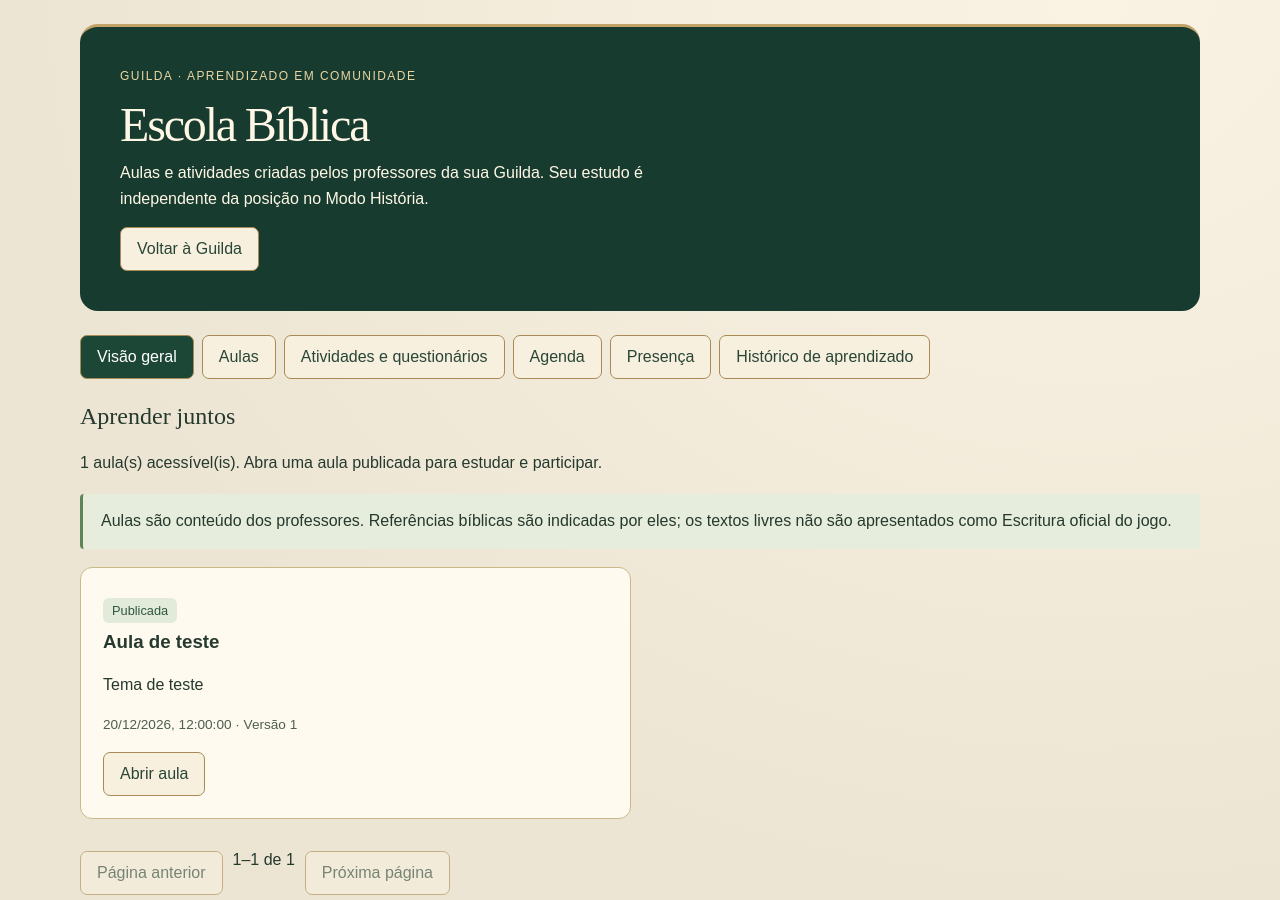
Test: student gets published views, private history and no administration controls
Expected: the heading "Aprender juntos" is shown, [80, 403, 235, 429]
Click the button "Presença" at (661, 357), box [610, 335, 711, 379]
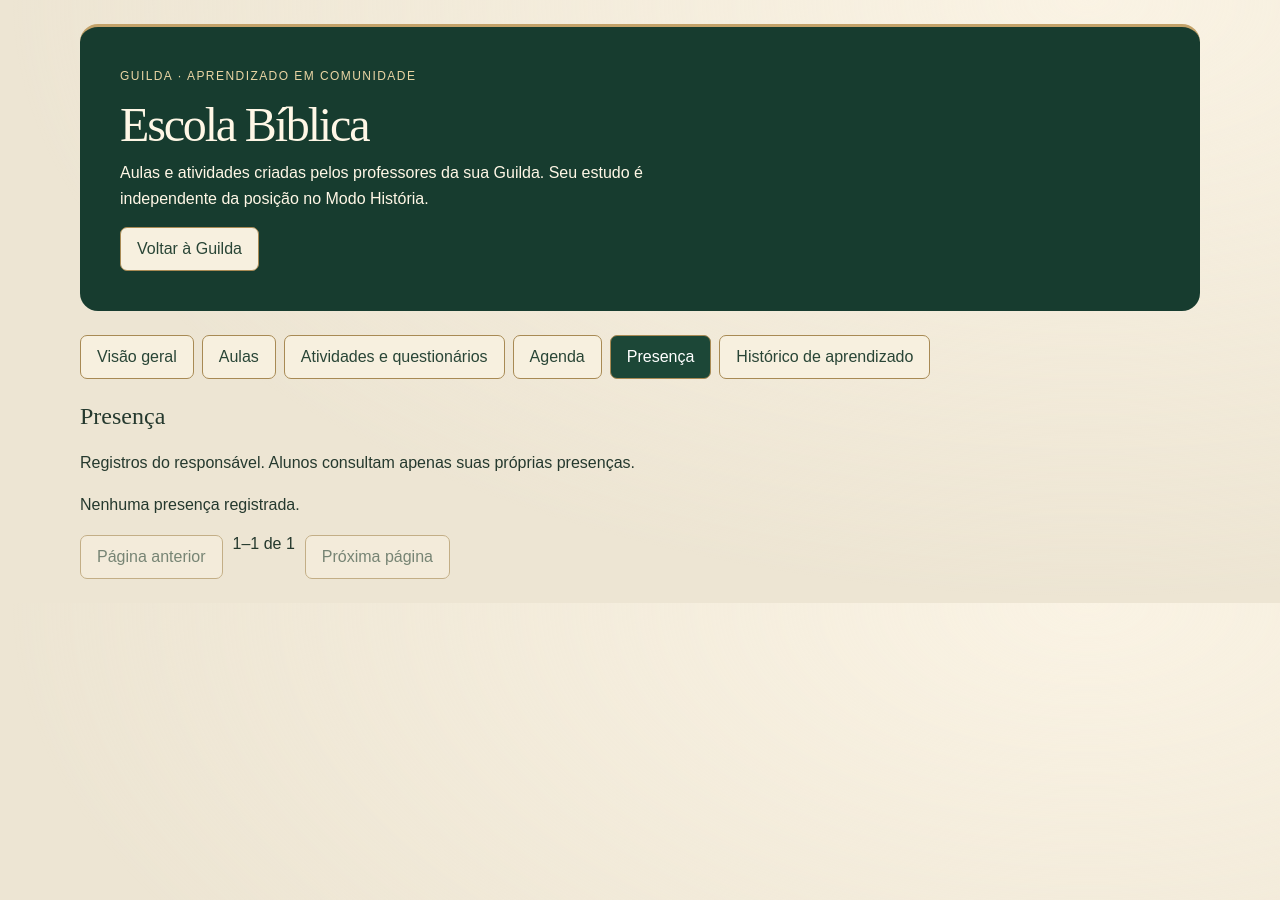
Click the button "Aulas" at (239, 357), box [202, 335, 276, 379]
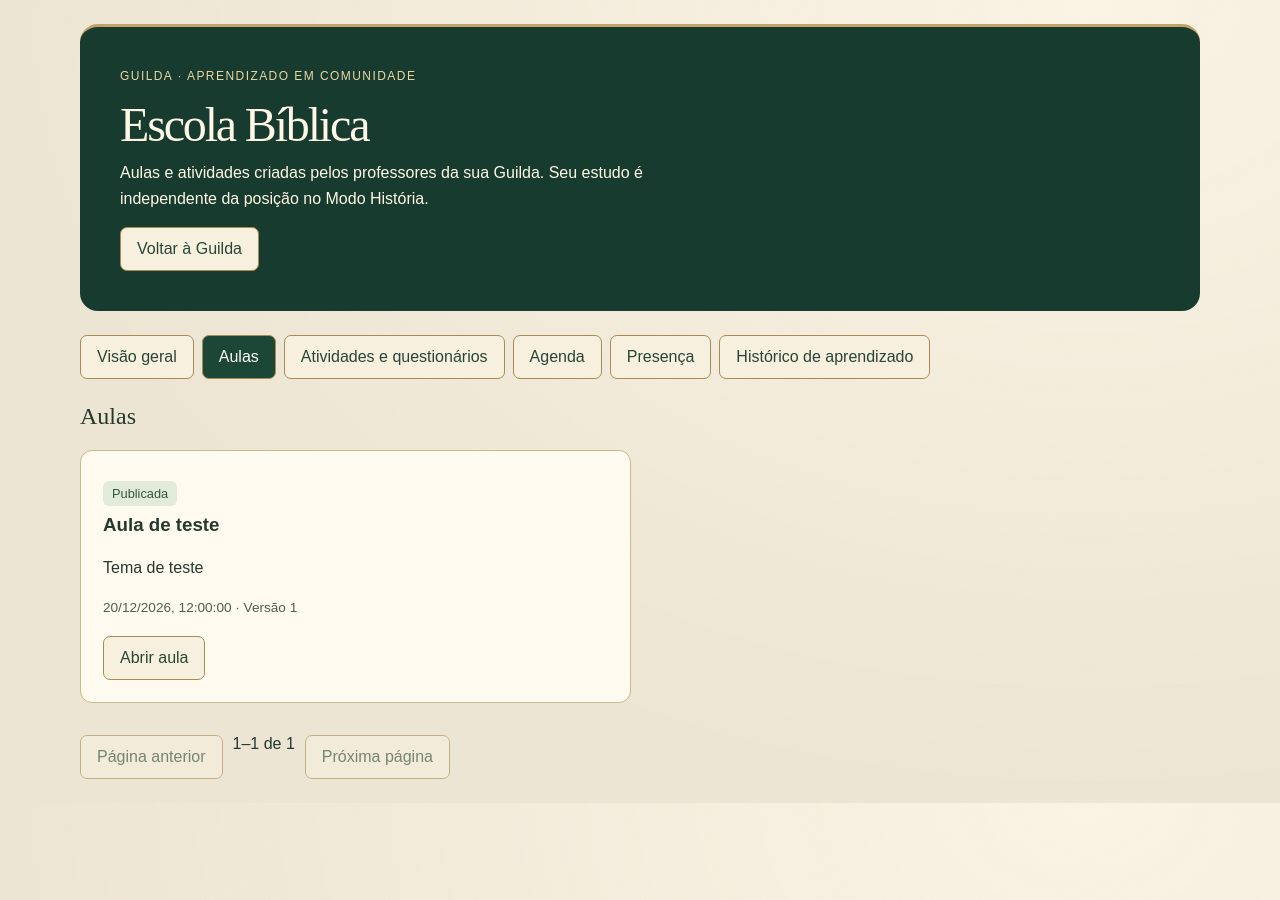
Click the button "Abrir aula" at (154, 658), box [103, 636, 206, 680]
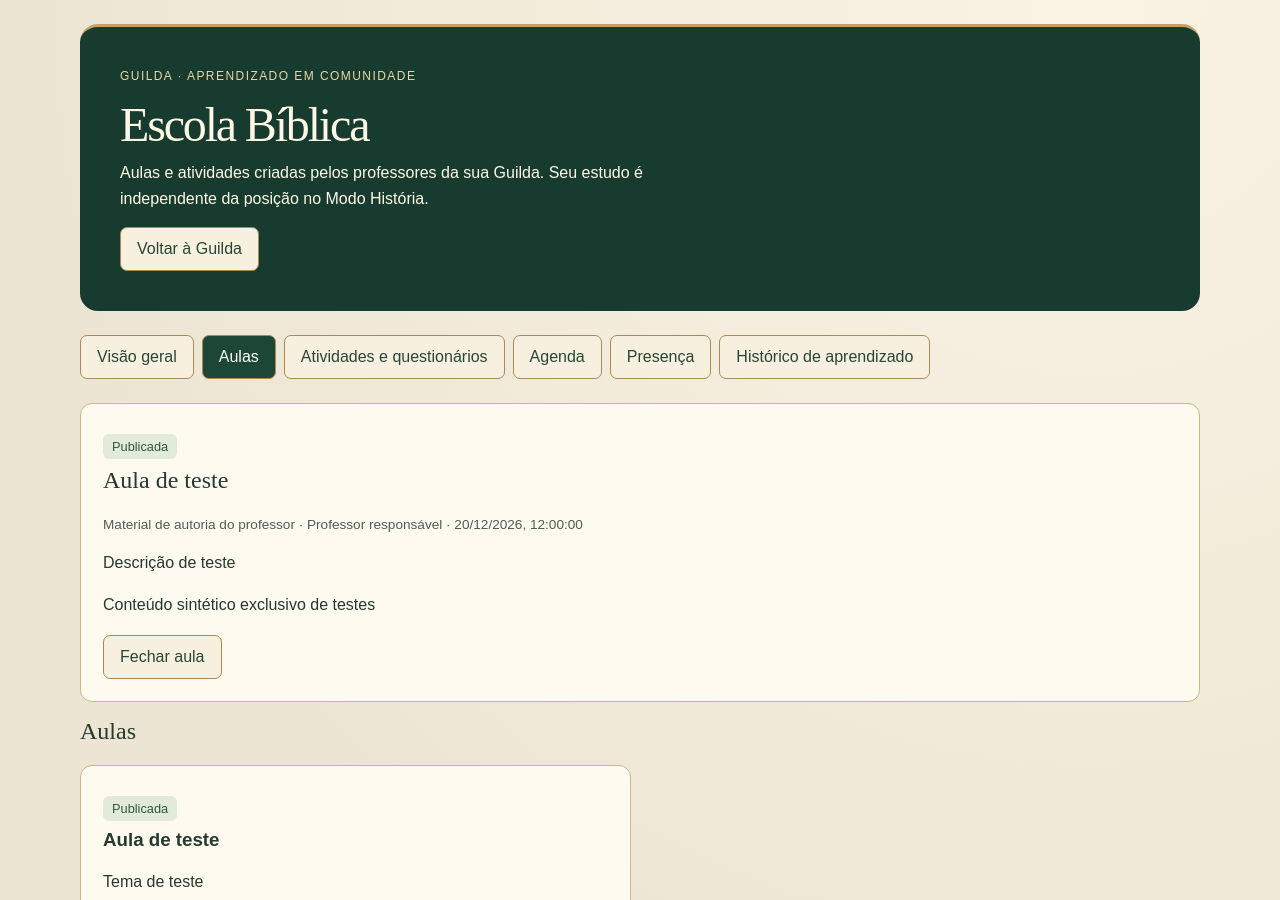
Result: the text "Conteúdo sintético exclusivo de testes" is shown at [103, 596, 375, 613]
